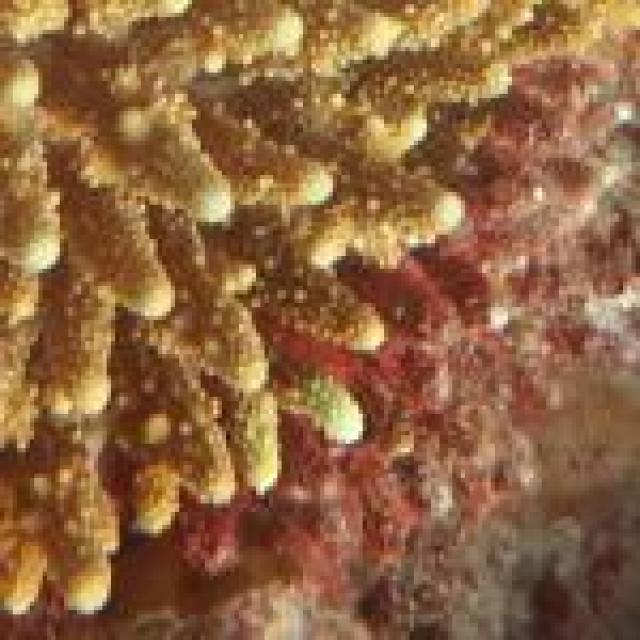Healthy Coral: (10, 0, 640, 594)
